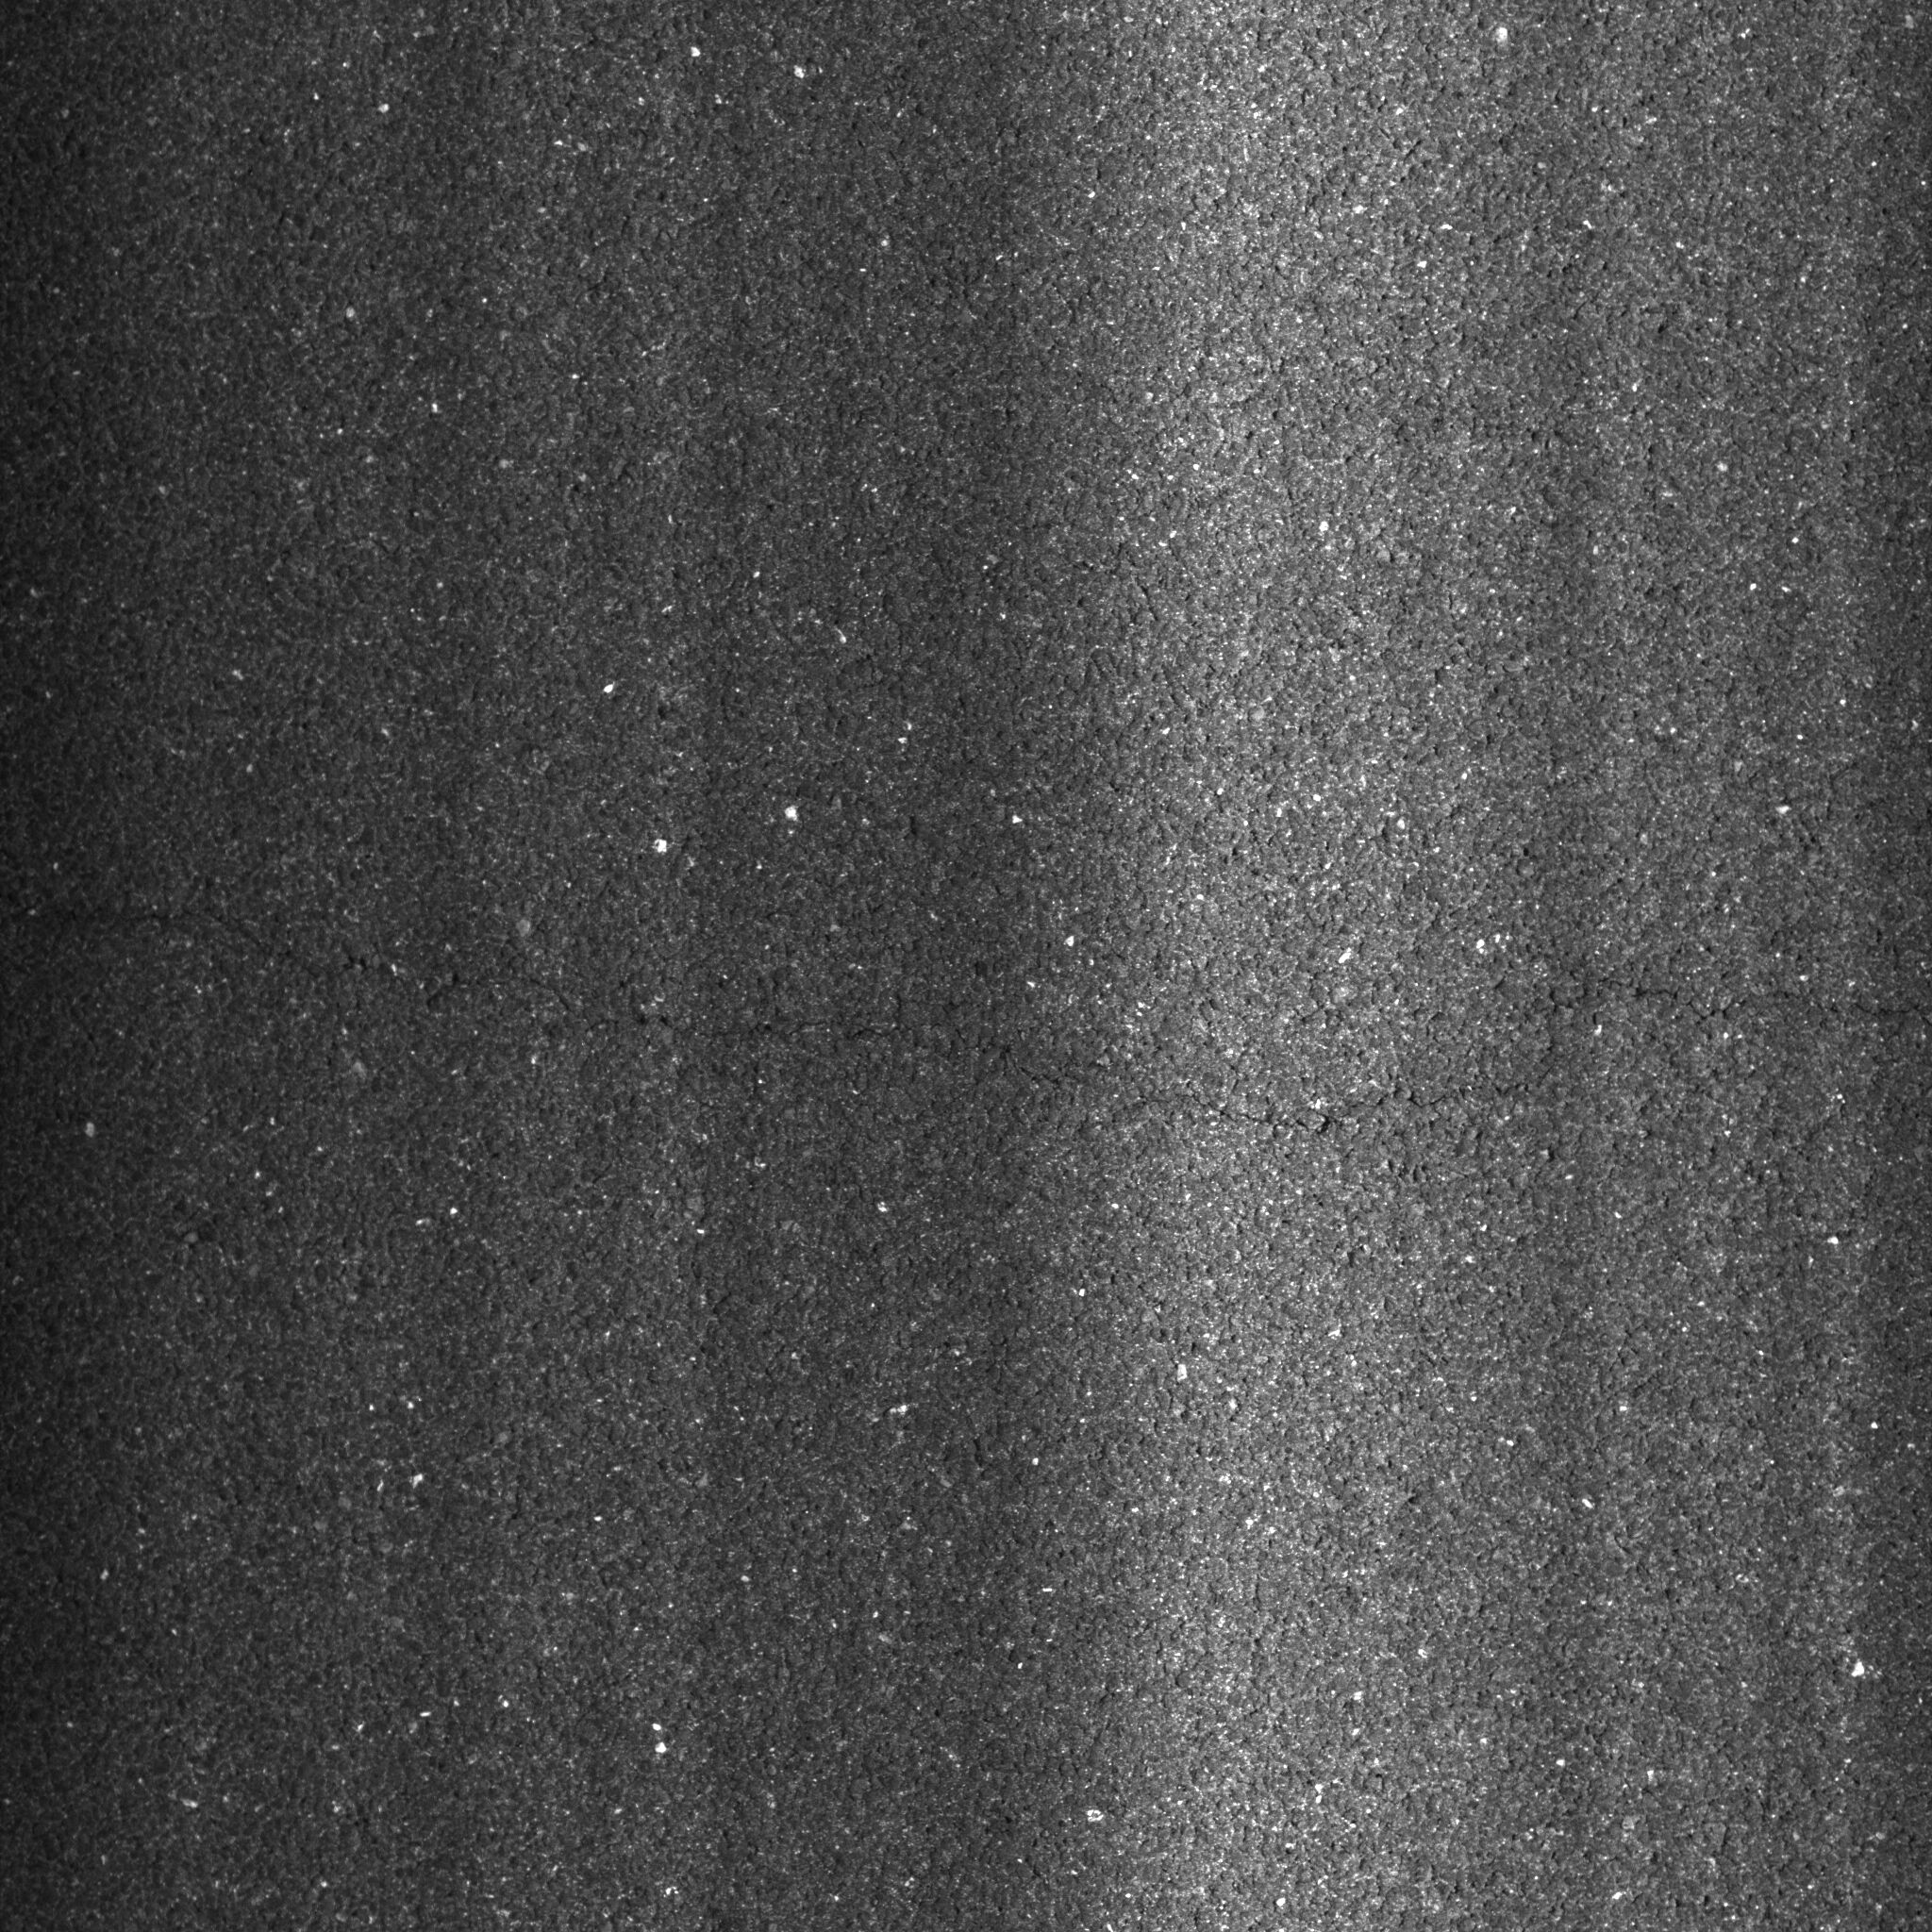transverse: (41, 833, 1891, 1152)
